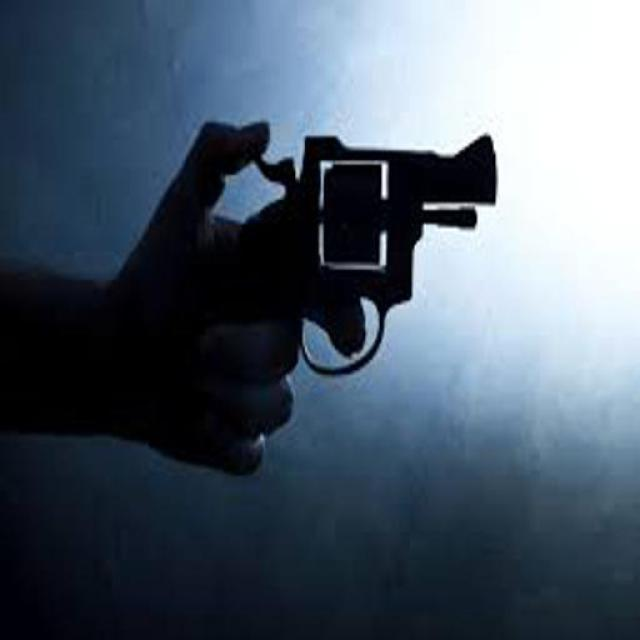pistol: (151, 119, 500, 479)
